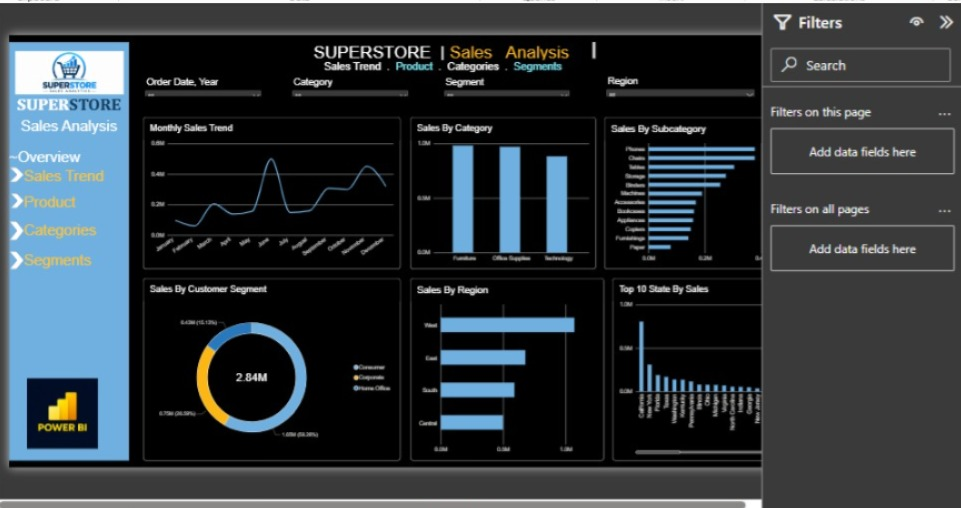

Layout of this report page (visuals, bound fields, positions):
{"tool":"powerbi","page":{"name":"Page 2","canvas":[1920,1080],"ordinal":1},"visuals":[{"type":"textbox","box":[703,17.6,763.5,45.4],"z":0},{"type":"textbox","box":[763.5,63,642.5,40.3],"z":1000},{"type":"slicer","fields":{"Values":["Order id.Order Date","Order id.Order Date.Variation.Date Hierarchy.Year"]},"box":[335.1,103.3,299.8,50.4],"z":2000},{"type":"slicer","fields":{"Values":["Order id.Category"]},"box":[703,103.3,299.8,50.4],"z":3000},{"type":"slicer","fields":{"Values":["Order id.Segment"]},"box":[1083.5,103.3,322.5,50.4],"z":4000},{"type":"lineChart","title":"Monthly Sales Trend","fields":{"Category":["Order id.Order Date.Variation.Date Hierarchy.Month"],"Y":["Sum(Order id.Sales)"]},"box":[335.1,204.1,642.5,380.5],"z":5000},{"type":"clusteredColumnChart","title":"Sales By Category","fields":{"Category":["Order id.Category"],"Y":["Sum(Order id.Sales)"]},"box":[1002.8,204.1,463.6,380.5],"z":6000},{"type":"barChart","title":"Sales By Subcategory","fields":{"Category":["Order id.Sub-Category"],"Y":["Sum(Order id.Sales)"]},"box":[1486.6,204.1,433.4,380.5],"z":7000},{"type":"donutChart","title":"Sales By Customer Segment","fields":{"Category":["Order id.Segment"],"Y":["Sum(Order id.Sales)"]},"box":[335.1,607.2,642.5,456.1],"z":8000},{"type":"barChart","title":"Sales By Region","fields":{"Category":["Order id.Region"],"Y":["Sum(Order id.Sales)"]},"box":[1002.8,607.2,483.8,456.1],"z":9000},{"type":"columnChart","title":"Top 10 State By Sales","fields":{"Category":["order id.State"],"Y":["Sum(order id.Sales)"]},"box":[1506.8,607.2,413.2,456.1],"z":10000},{"type":"slicer","fields":{"Values":["order id.Region"]},"box":[1486.6,100.8,380.5,52.9],"z":11000},{"type":"shape","box":[0,17.6,299.8,1045.7],"z":12000},{"type":"textbox","box":[0,148.7,299.8,55.4],"z":13000},{"type":"textbox","box":[0,204.1,299.8,58],"z":14000},{"type":"textbox","box":[0,282.2,299.8,58],"z":15000},{"type":"textbox","box":[37.8,330.1,262,65.5],"z":16000},{"type":"shape","box":[0,330.1,37.8,37.8],"z":17000},{"type":"shape","box":[2.5,395.6,35.3,37.8],"z":18000},{"type":"textbox","box":[37.8,395.6,262,55.4],"z":19000},{"type":"shape","box":[0,539.2,37.8,45.4],"z":20000},{"type":"shape","box":[0,466.1,37.8,47.9],"z":21000},{"type":"textbox","box":[37.8,466.1,262,47.9],"z":22000},{"type":"textbox","box":[37.8,539.2,262,68],"z":23000},{"type":"image","box":[2.5,40.3,297.3,108.3],"z":24000},{"type":"image","box":[20.2,856.7,226.8,176.4],"z":25000}]}

Visuals, with their boxes on the page's 1920x1080 design canvas (x1, y1, x2, y2). These are canvas units, not pixel positions in the 961x508 screenshot, which may show the page scaled, cropped or inside an application window:
textbox: x1=703, y1=18, x2=1466, y2=63
textbox: x1=764, y1=63, x2=1406, y2=103
slicer - Order id.Order Date x Order id.Order Date.Variation.Date Hierarchy.Year: x1=335, y1=103, x2=635, y2=154
slicer - Order id.Category: x1=703, y1=103, x2=1003, y2=154
slicer - Order id.Segment: x1=1084, y1=103, x2=1406, y2=154
"Monthly Sales Trend" lineChart: x1=335, y1=204, x2=978, y2=585
"Sales By Category" clusteredColumnChart: x1=1003, y1=204, x2=1466, y2=585
"Sales By Subcategory" barChart: x1=1487, y1=204, x2=1920, y2=585
"Sales By Customer Segment" donutChart: x1=335, y1=607, x2=978, y2=1063
"Sales By Region" barChart: x1=1003, y1=607, x2=1487, y2=1063
"Top 10 State By Sales" columnChart: x1=1507, y1=607, x2=1920, y2=1063
slicer - order id.Region: x1=1487, y1=101, x2=1867, y2=154
shape: x1=0, y1=18, x2=300, y2=1063
textbox: x1=0, y1=149, x2=300, y2=204
textbox: x1=0, y1=204, x2=300, y2=262
textbox: x1=0, y1=282, x2=300, y2=340
textbox: x1=38, y1=330, x2=300, y2=396
shape: x1=0, y1=330, x2=38, y2=368
shape: x1=2, y1=396, x2=38, y2=433
textbox: x1=38, y1=396, x2=300, y2=451
shape: x1=0, y1=539, x2=38, y2=585
shape: x1=0, y1=466, x2=38, y2=514
textbox: x1=38, y1=466, x2=300, y2=514
textbox: x1=38, y1=539, x2=300, y2=607
image: x1=2, y1=40, x2=300, y2=149
image: x1=20, y1=857, x2=247, y2=1033
